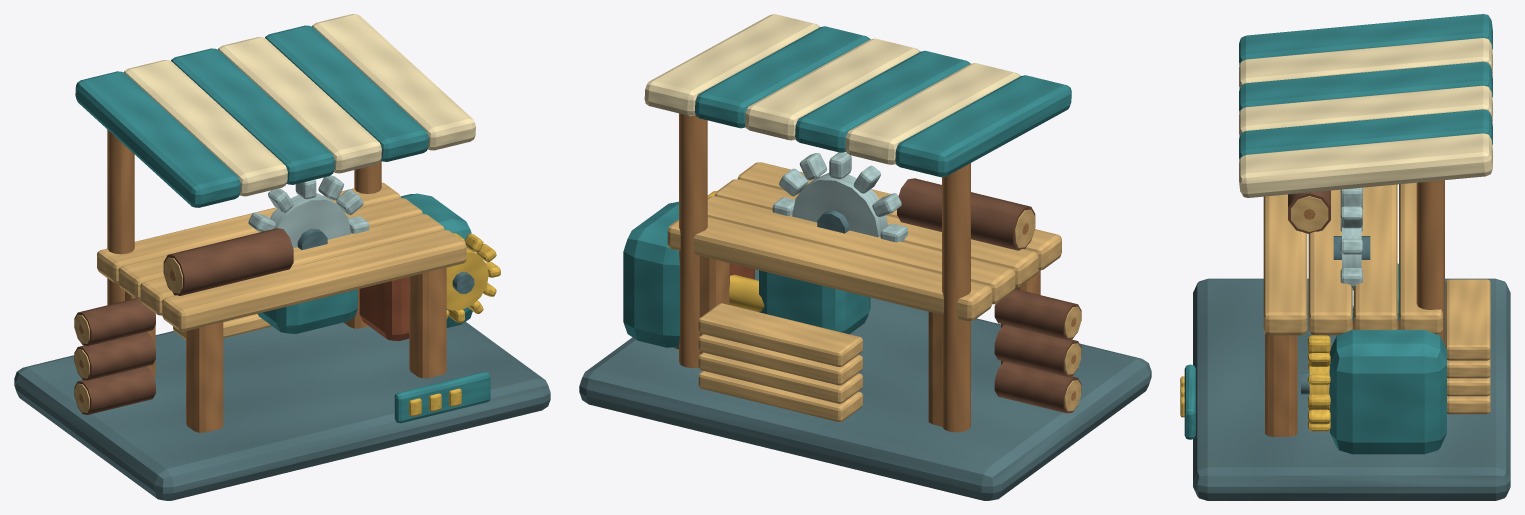
The model's file is sawmill-tier-3.glb.
The picture shows the model from 3 angles, left to right: view 1: azimuth 30°, elevation 25°; view 2: azimuth 150°, elevation 25°; view 3: azimuth 270°, elevation 25°; orthographic projection. The views are drawn at different scales.
Visible parts, largest first — view 1: sawmill-tier-3-body, saw-blade; view 2: sawmill-tier-3-body, saw-blade; view 3: sawmill-tier-3-body, saw-blade.
Part boxes in pixels (x1,y1,x2,y2): sawmill-tier-3-body: [14, 14, 550, 500]; saw-blade: [248, 175, 369, 249]; sawmill-tier-3-body: [579, 14, 1151, 500]; saw-blade: [772, 152, 907, 242]; sawmill-tier-3-body: [1180, 14, 1510, 500]; saw-blade: [1333, 187, 1370, 311].
Bounding box in the file's own units: 3.38 × 2.53 × 2.34.
1 material, 1 textured.
